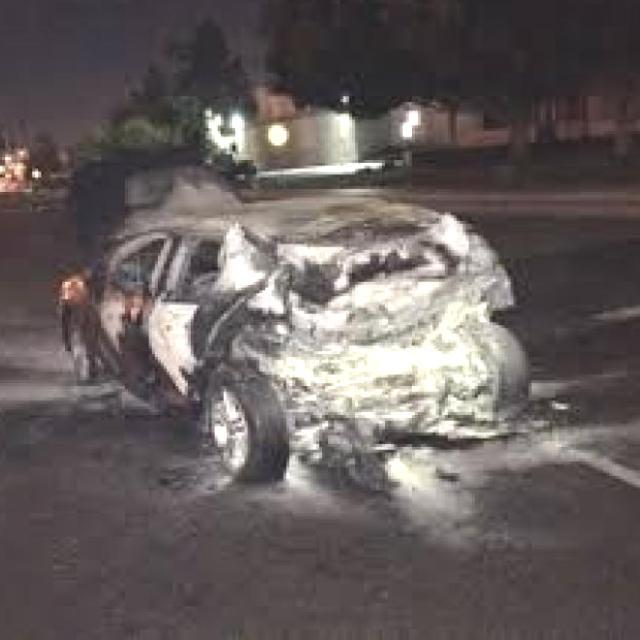accident: (35, 142, 570, 517)
